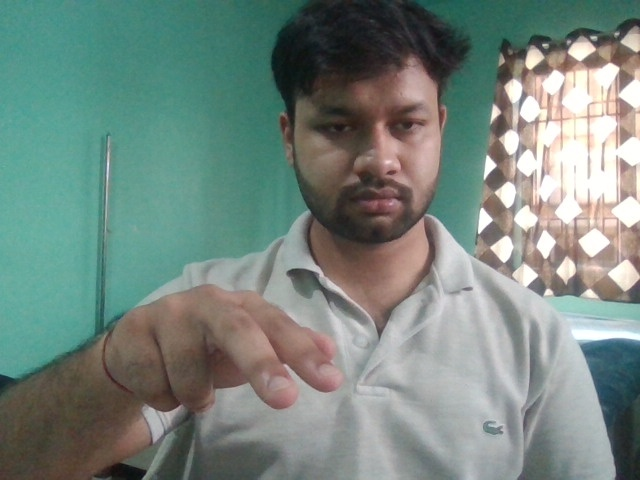No: (101, 282, 345, 422)
